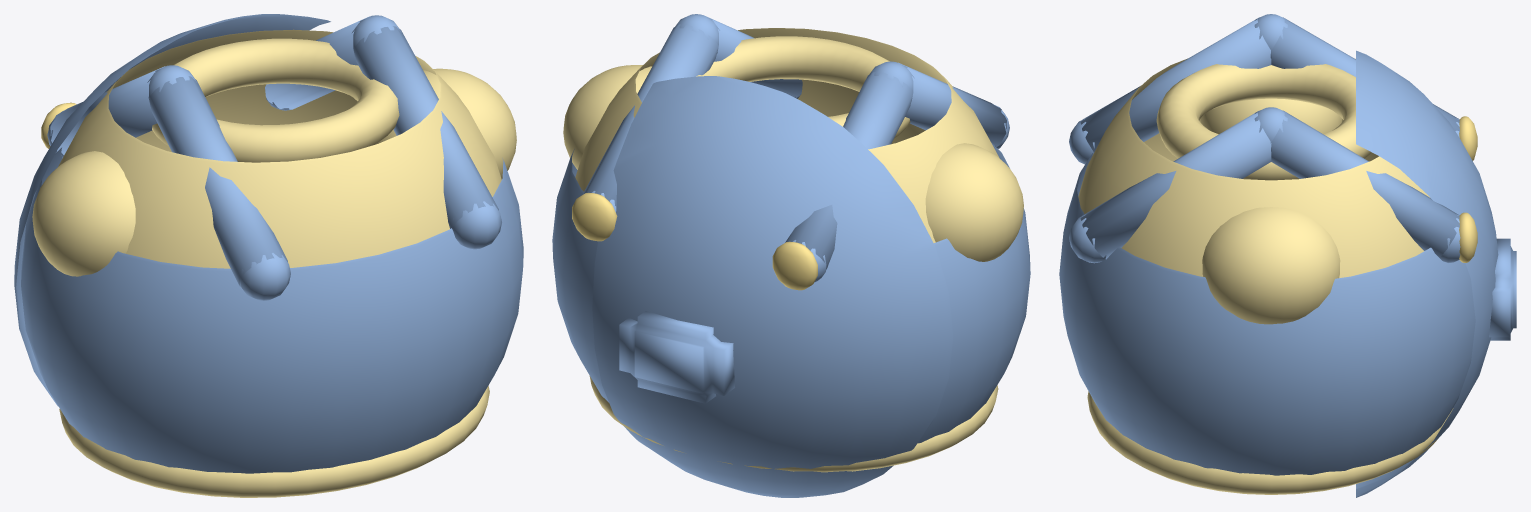
File: overalls_top.glb
3 views of the same model, side by side, from view 1: azimuth 30°, elevation 25°; view 2: azimuth 150°, elevation 25°; view 3: azimuth 270°, elevation 25° (orthographic). The views are drawn at different scales.
Parts seen in each view (by area): view 1: Body; view 2: Body; view 3: Body.
Part boxes in pixels (bbox=[...]): Body: bbox=[14, 14, 523, 497]; Body: bbox=[552, 14, 1030, 497]; Body: bbox=[1059, 14, 1516, 497].
Bounding box in the file's own units: 0.59 × 0.5368 × 0.5394.
